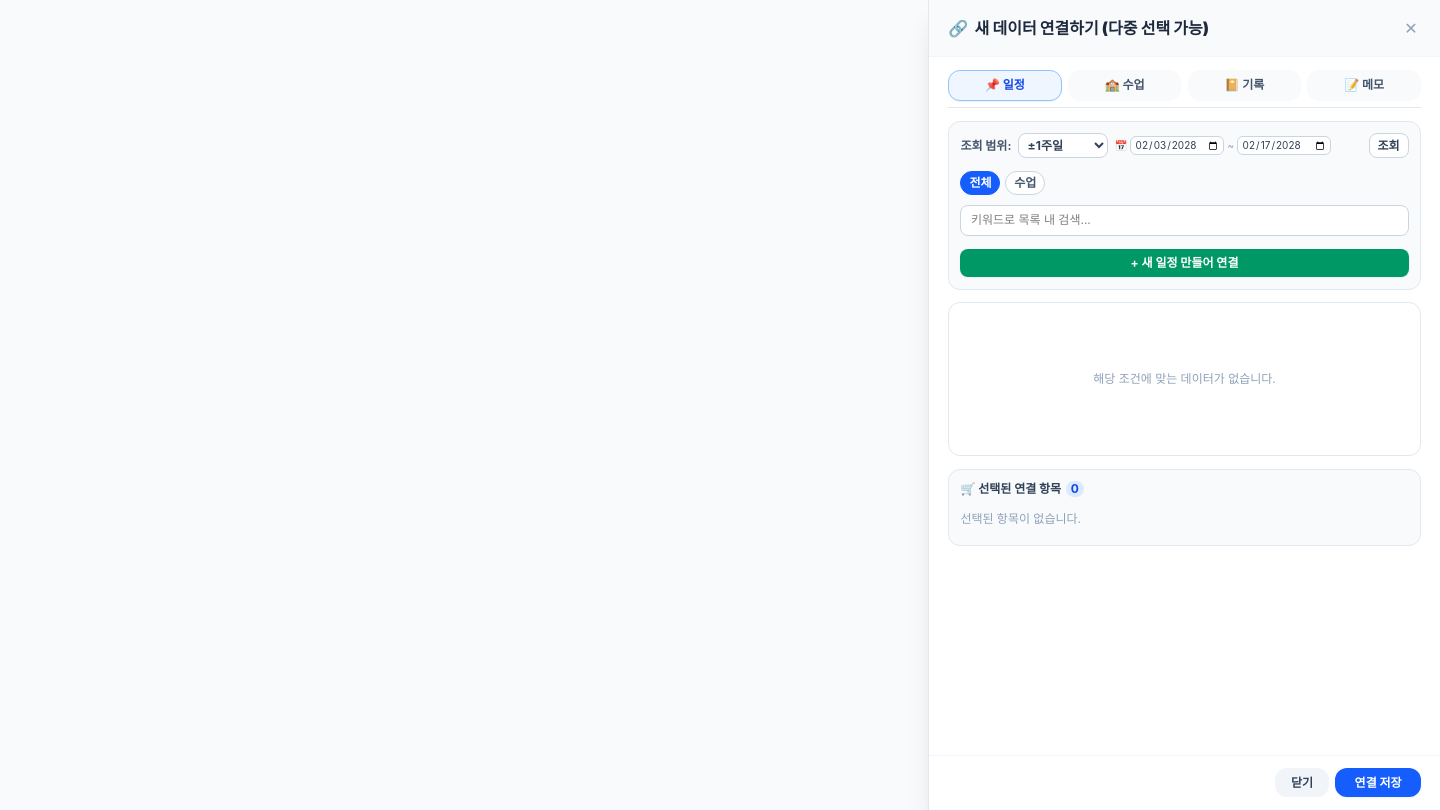
링크 추가 - 고른 범위의 날짜를 보여 주고 고칠 수 있다 › 1~2월 항목에서 열어도 그 학년도로 센다 (달력의 해로 셈하면 다음 학년도를 찾았다)
Step 1. Select "학년도 전체" in the dropdown showing "±1주일" → (1063, 146), box [1018,133,1108,158]
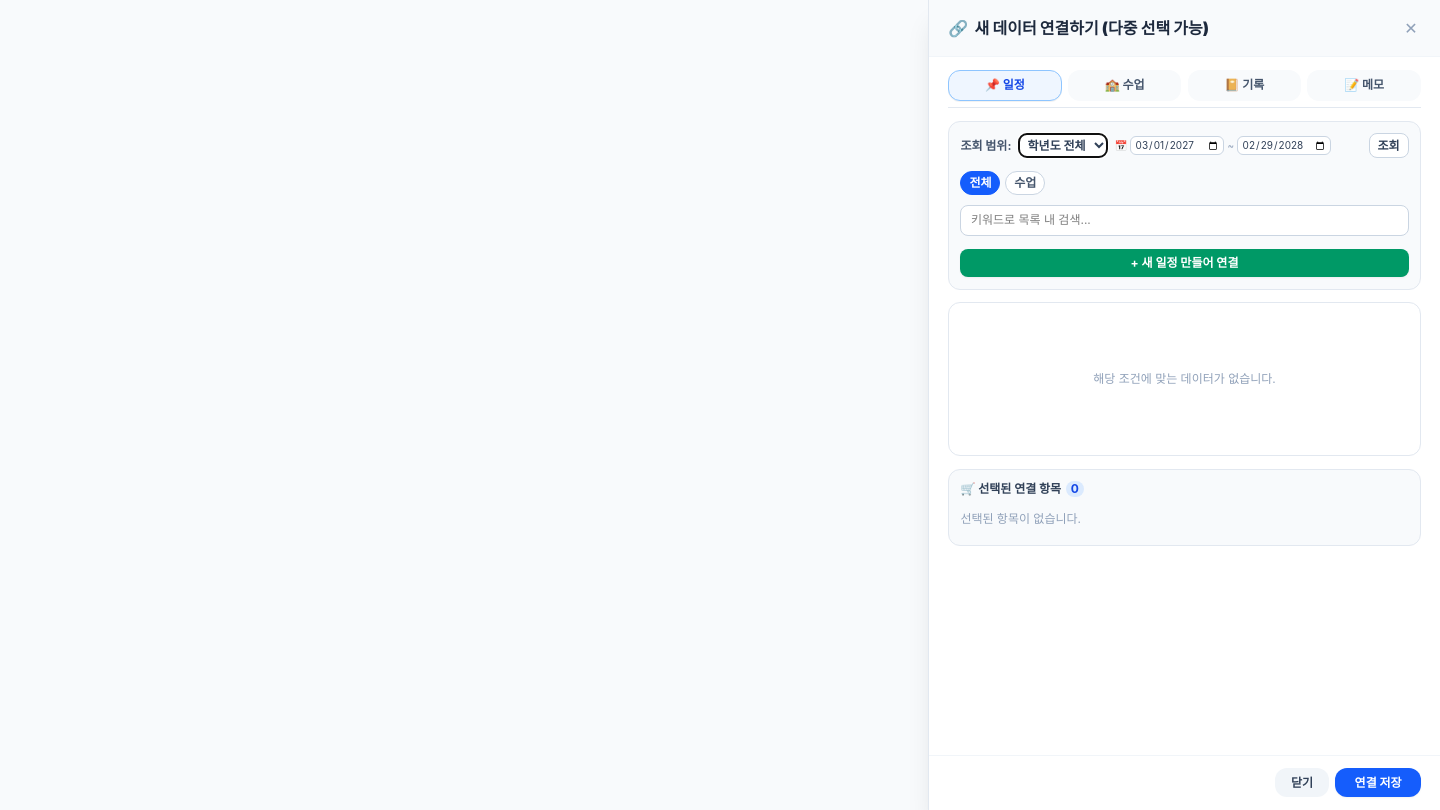
Now the date field named "시작일" holds "2027-03-01", box [1130,136,1224,155]
Now the date field named "종료일" holds "2028-02-29", box [1237,136,1331,155]
Step 2. Select "2학기 전체" in the dropdown showing "±1주일" → (1063, 146), box [1018,133,1108,158]
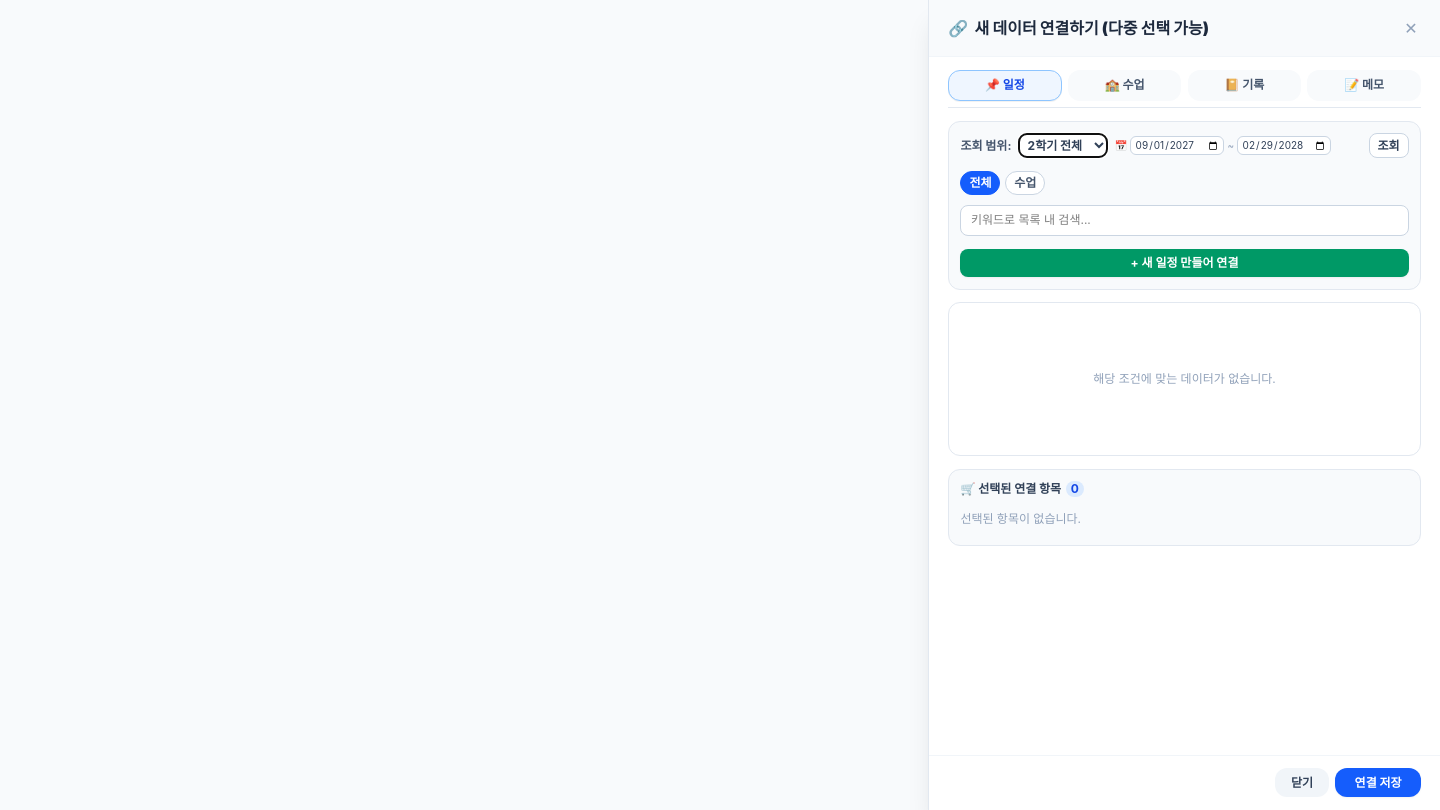
Now the date field named "종료일" holds "2028-02-29", box [1237,136,1331,155]
Now the date field named "시작일" holds "2027-09-01", box [1130,136,1224,155]
